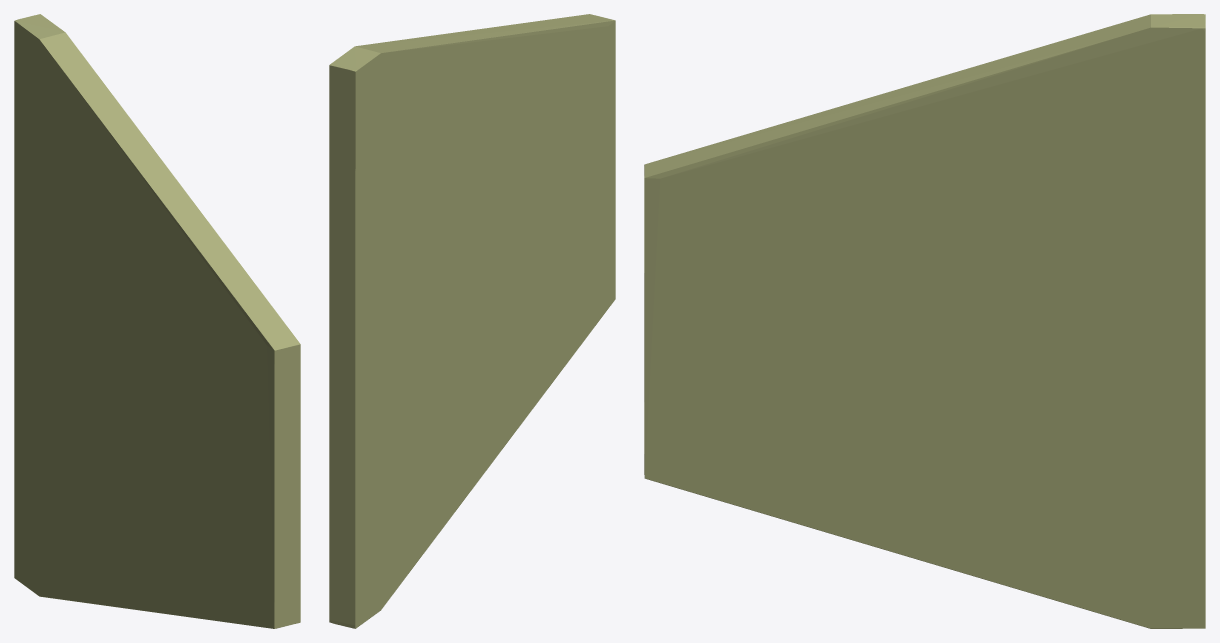
Rendered from lighting_taskLight_suspendedLinearBench_a01.glb.
3 renders of one model, left to right at view 1: azimuth 30°, elevation 25°; view 2: azimuth 150°, elevation 25°; view 3: azimuth 270°, elevation 25°, orthographic. The views are drawn at different scales.
Parts seen in each view (by area): view 1: geometry_0; view 2: geometry_0; view 3: geometry_0.
Part boxes in pixels (x1=…): geometry_0: x1=14, y1=14, x2=300, y2=628; geometry_0: x1=329, y1=14, x2=615, y2=628; geometry_0: x1=644, y1=14, x2=1205, y2=628.
Bounding box in the file's own units: 0.024 × 0.48 × 0.4061.
